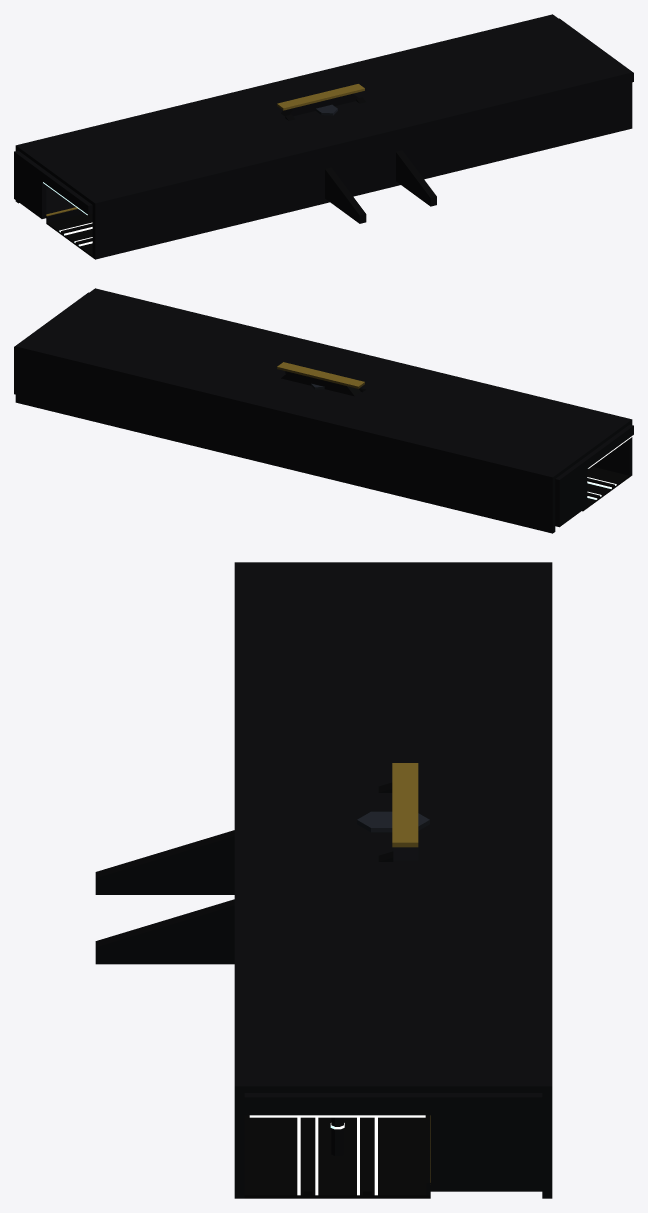
File: shaddai_transit_kit_v01.glb
The picture shows the model from 3 angles, top to bottom: view 1: azimuth 30°, elevation 25°; view 2: azimuth 150°, elevation 25°; view 3: azimuth 270°, elevation 25°; orthographic projection. The views are drawn at different scales.
Visible parts, largest first — view 1: metro_hall_100m, tunnel_portal; view 2: metro_hall_100m, tunnel_portal; view 3: metro_hall_100m, tunnel_portal, metro_hall_rails.
Boxes of the visible parts, x1,y1,x2,y2 form: metro_hall_100m: (14,14,633,259); tunnel_portal: (277,84,436,223); metro_hall_100m: (14,288,633,533); tunnel_portal: (277,362,365,396); metro_hall_100m: (234,562,552,1198); tunnel_portal: (95,763,418,964); metro_hall_rails: (297,1117,377,1195).
Size of the model in its own units: 102 by 11.9 by 36.8.
